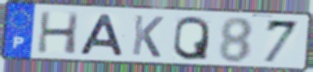7: (262, 18, 302, 64)
8: (218, 15, 256, 65)
A: (76, 12, 126, 57)
H: (36, 10, 81, 55)
K: (130, 13, 166, 60)
Q: (171, 14, 212, 62)
